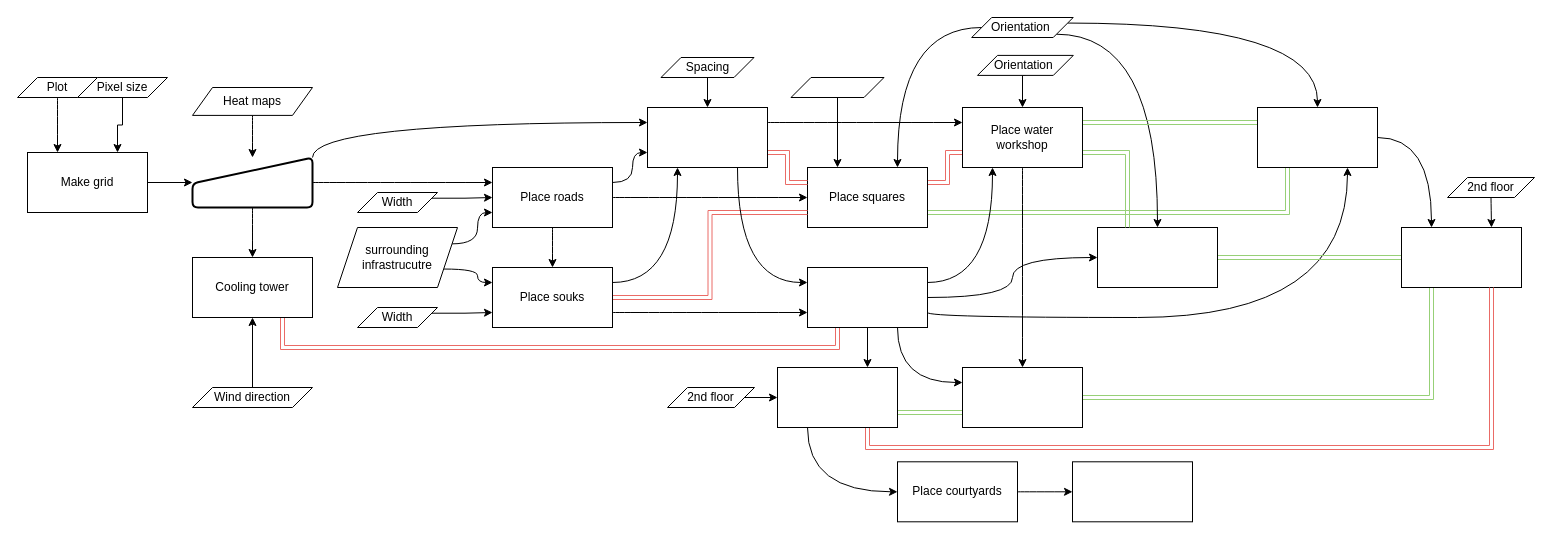
The diagram is 1552 pixels wide and 540 high, and some of its shapes have lost their labels. Here are the shapes that lost their labels. From the top down, the centre of each, then its label:
point 837,87: Location
point 707,137: Place wells
point 1317,137: Place shops
point 252,182: Place canals
point 1157,257: Place non-water workshop
point 1461,257: Place food processing
point 867,297: Make building blocks
point 837,397: Place homes
point 1022,397: Place stairs
point 1132,491: Place fields
